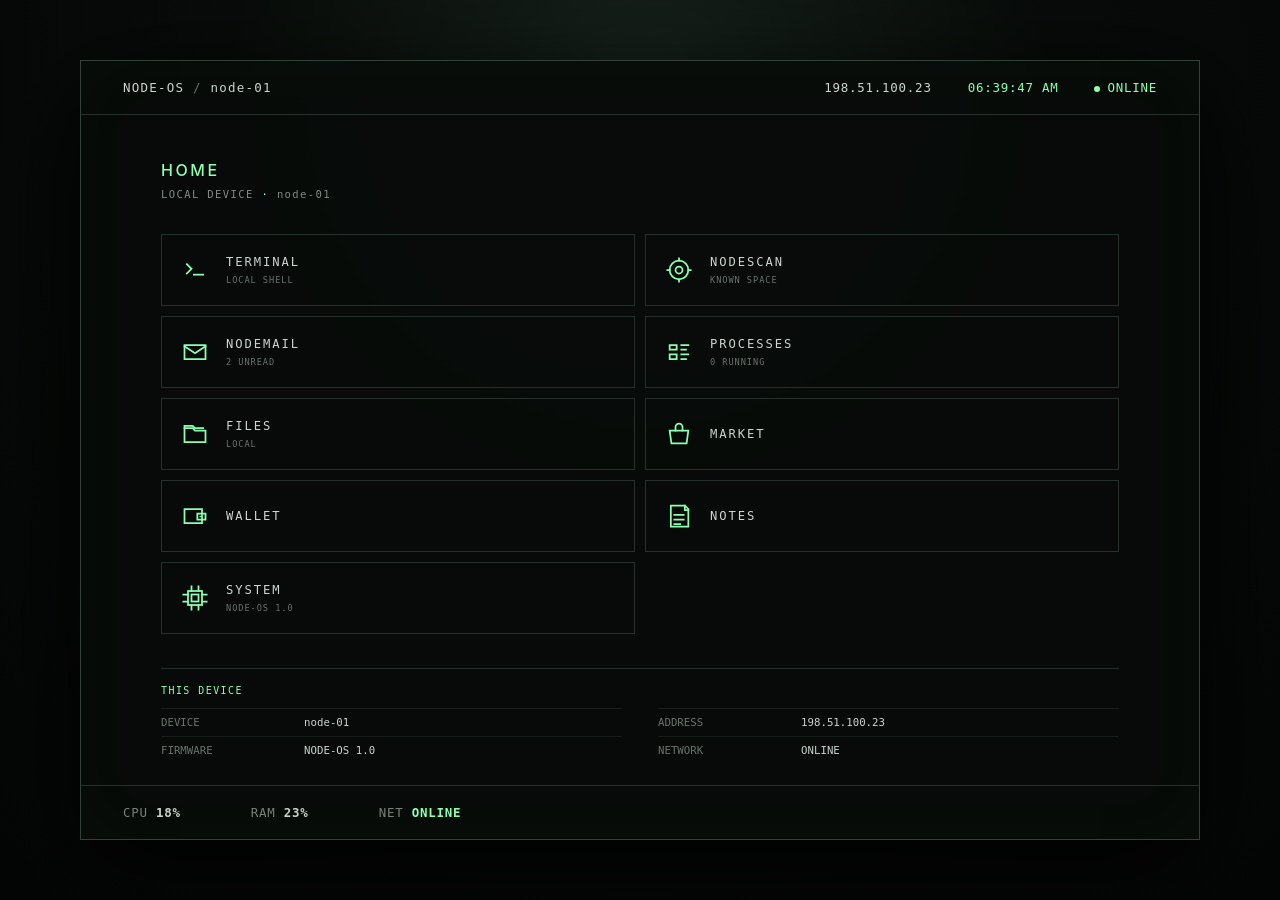
Test case: NODE-OS shell and applications › shows canonical runtime values in the System app
The width and height of the screenshot is (1280, 900).
Click the button with aria-label "open system": (254, 590) [161,562,635,634]
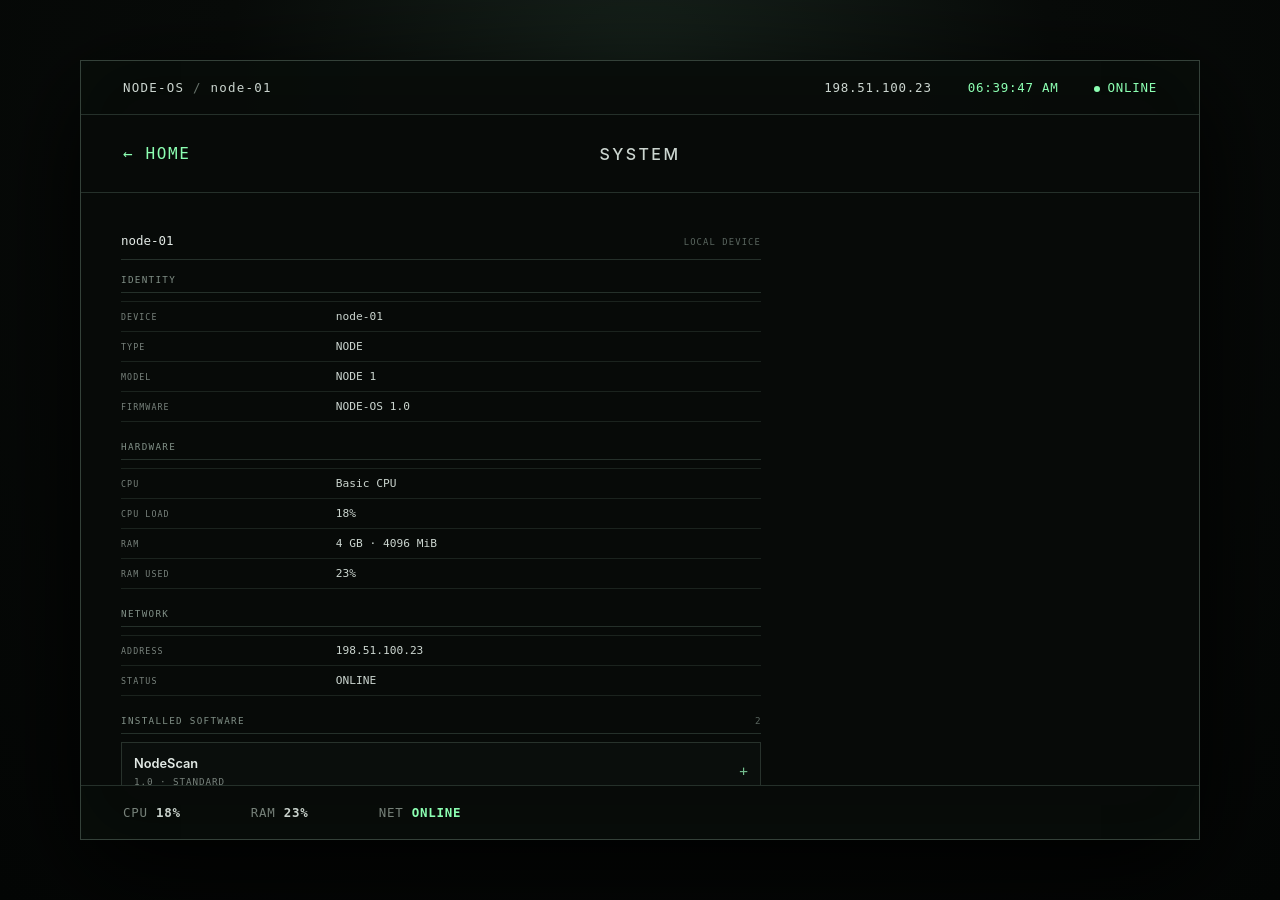
expect the text "198.51.100.23" is shown 2 times: met, box [824,80,932,95]; [336,644,423,657]
expect the text "18%" is shown 2 times: met, box [336,507,356,520]; [156,805,181,820]
expect the text "23%" is shown 2 times: met, box [336,567,356,580]; [284,805,309,820]
